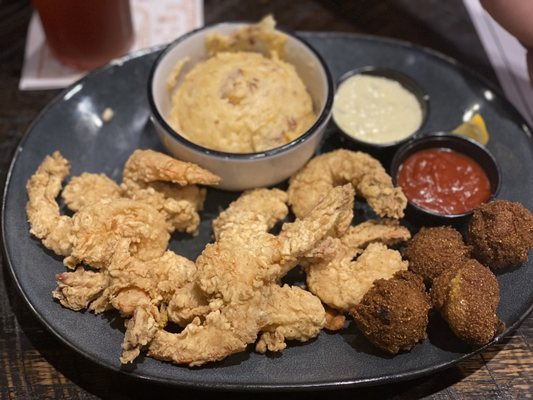pizza: (29, 0, 135, 71)
sushi: (146, 17, 335, 193), (390, 134, 499, 220)
